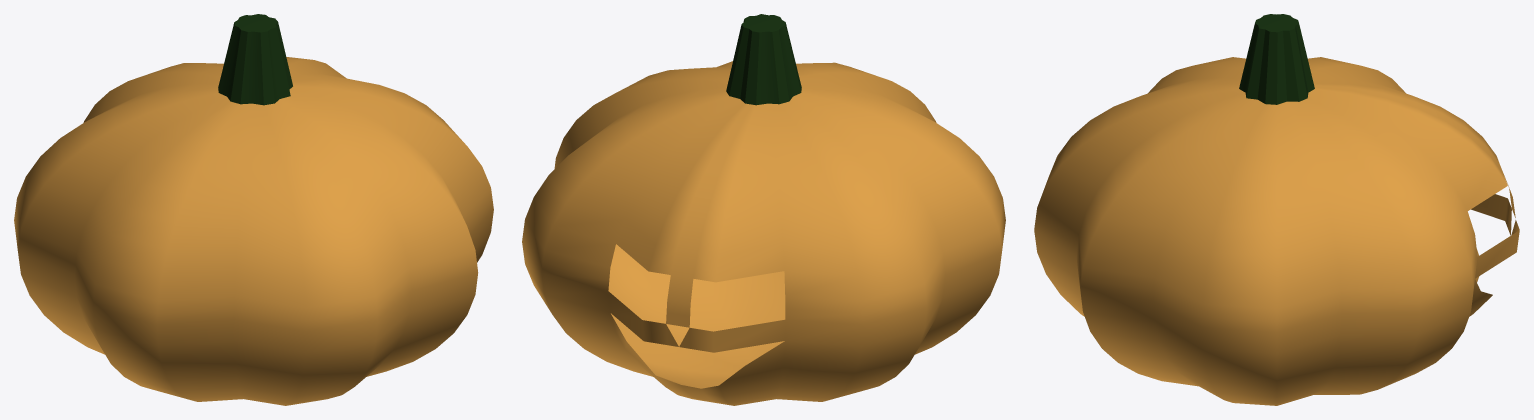
The model's file is Blumpkin.fbx.
The picture shows the model from 3 angles, left to right: view 1: azimuth 30°, elevation 25°; view 2: azimuth 150°, elevation 25°; view 3: azimuth 270°, elevation 25°; orthographic projection.
Visible parts, largest first — view 1: pSphere1; view 2: pSphere1; view 3: pSphere1.
Boxes of the visible parts, left/top/right/bottom form: pSphere1: left=14, top=14, right=493, bottom=405; pSphere1: left=522, top=14, right=1005, bottom=405; pSphere1: left=1034, top=14, right=1519, bottom=405.
Bounding box in the file's own units: 3.58 × 2.93 × 3.67.
